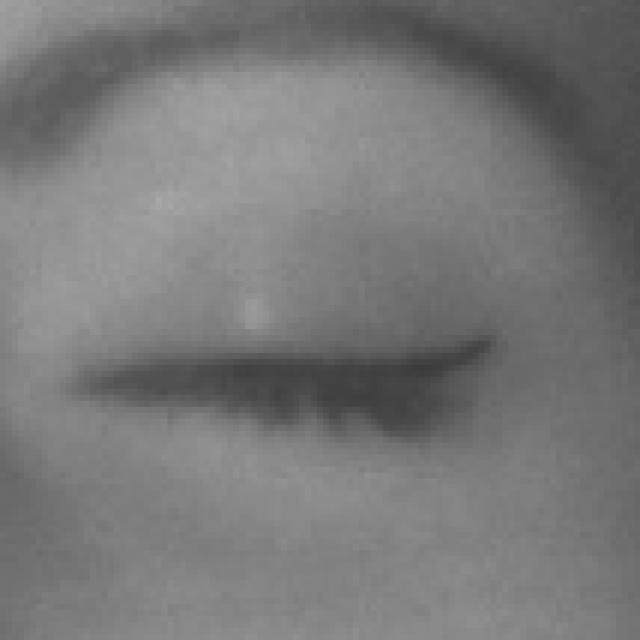Eyeclosed: (58, 201, 483, 566)
